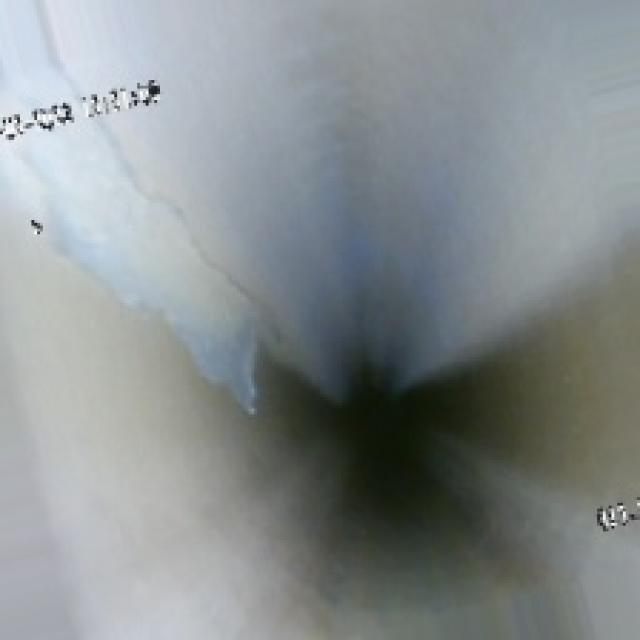pipe_surface_damage: (74, 154, 266, 417)
